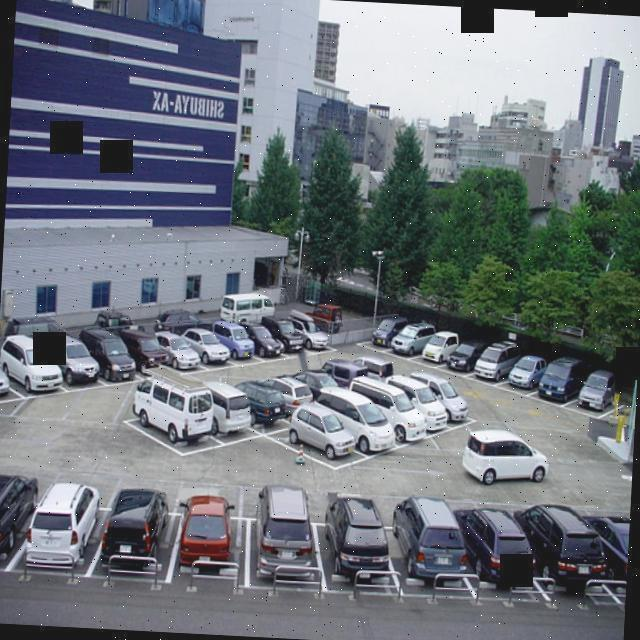space-occupied: (513, 505, 608, 605), (23, 486, 113, 581), (450, 502, 540, 595), (96, 495, 185, 583), (389, 502, 469, 597), (315, 503, 397, 593), (175, 506, 254, 585), (250, 505, 319, 585), (360, 392, 430, 453), (0, 464, 41, 568), (187, 388, 261, 440), (138, 409, 210, 461), (385, 386, 453, 440), (287, 417, 353, 472), (325, 402, 391, 457), (41, 339, 106, 393), (227, 378, 290, 433), (6, 345, 61, 403), (80, 334, 139, 386), (298, 360, 377, 394), (419, 380, 473, 427), (115, 325, 169, 371), (543, 357, 588, 411), (151, 331, 203, 375), (182, 325, 235, 367), (256, 380, 313, 418), (270, 365, 336, 395), (577, 378, 621, 422), (505, 354, 549, 398), (444, 336, 488, 378), (473, 344, 518, 385), (338, 352, 394, 384), (282, 313, 330, 350), (212, 323, 261, 359), (261, 318, 310, 354), (420, 330, 463, 367), (389, 323, 433, 359), (242, 326, 289, 359), (360, 320, 407, 351)
